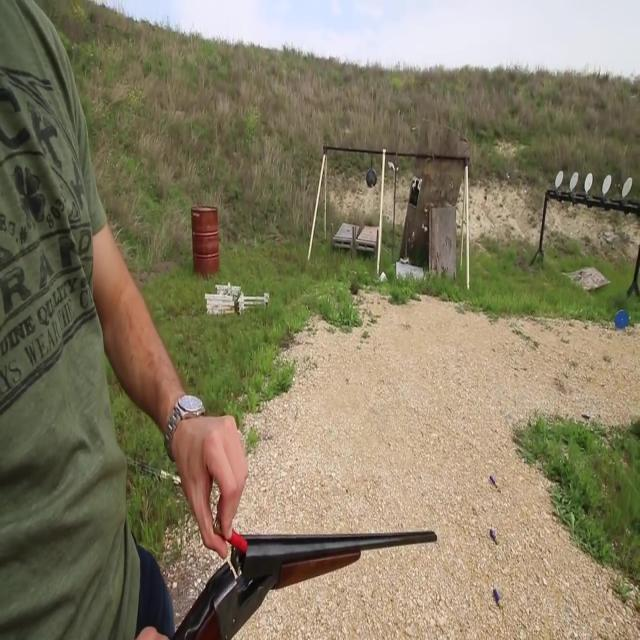Weapon: (128, 462, 452, 640)
